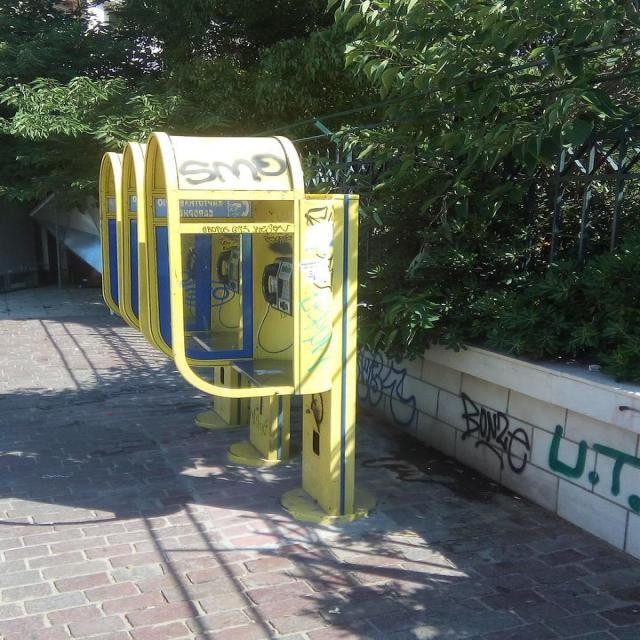nonspitting: (544, 424, 640, 516), (458, 391, 530, 474), (354, 346, 420, 428), (178, 152, 284, 185)
